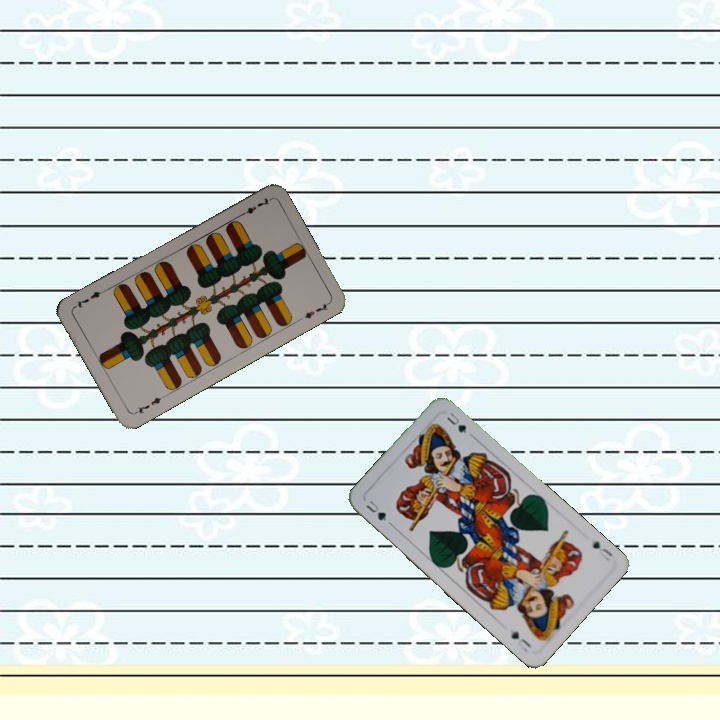E7: (130, 392, 168, 417), (235, 194, 273, 219)
GU: (361, 496, 389, 524), (588, 537, 615, 563)
